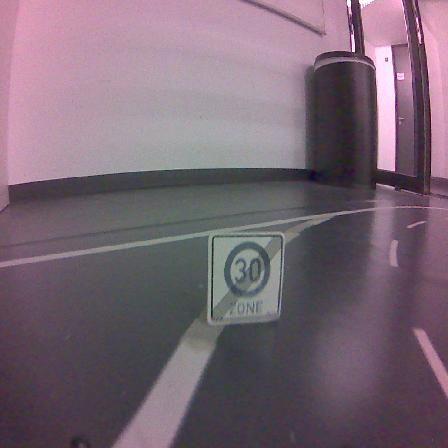30_ZONE_END: (206, 232, 285, 325)
